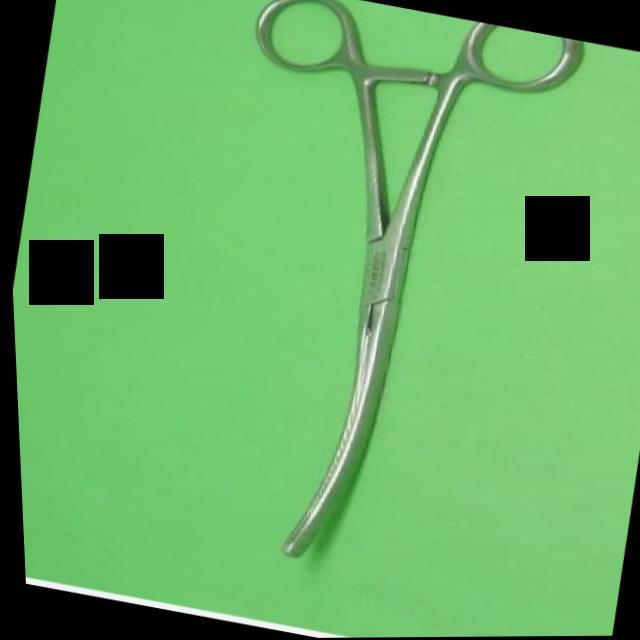Doyel Instestinal Forceps: (135, 0, 618, 606)
